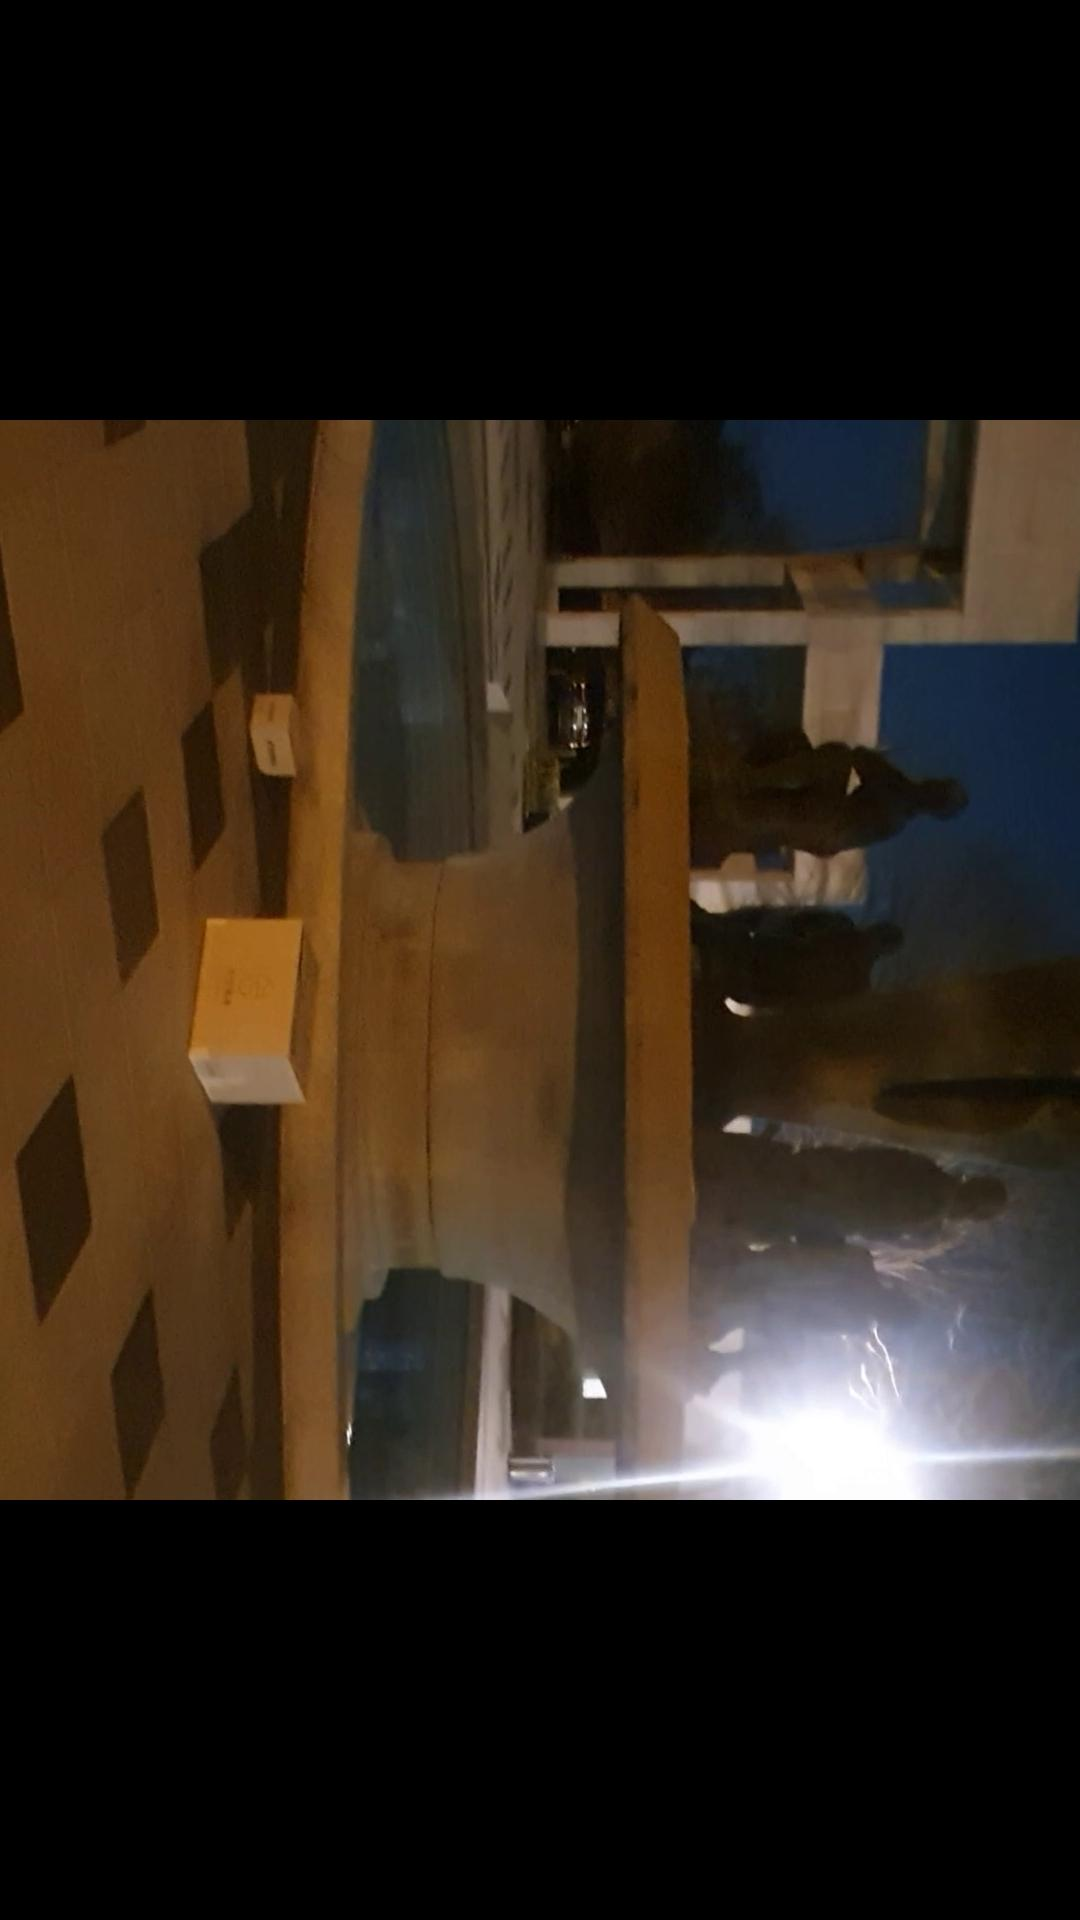Box: (182, 923, 342, 1124), (253, 688, 320, 782)
